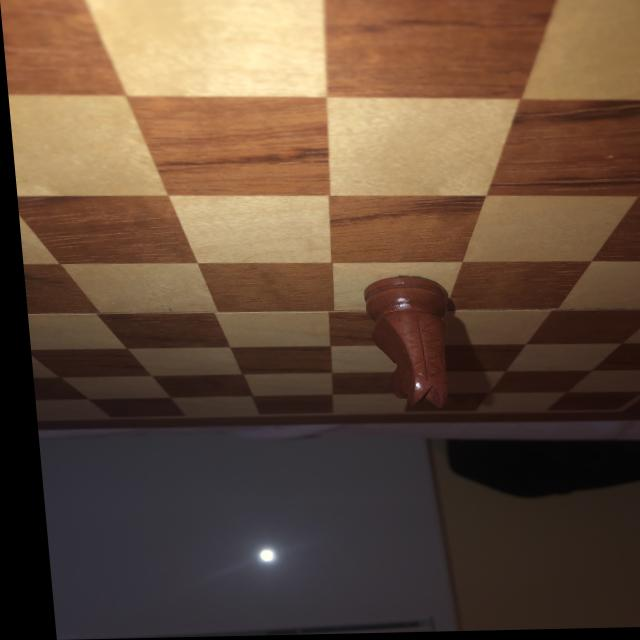black_knight: (359, 278, 452, 412)
